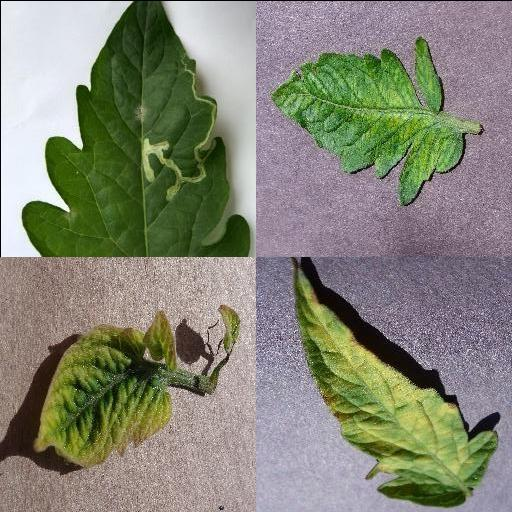Leaf Miner: (20, 0, 249, 256)
Leaf Mold: (294, 266, 498, 508)
Mosaic Virus: (270, 36, 466, 204)
Yellow Leaf Curl Virus: (32, 307, 176, 467)
